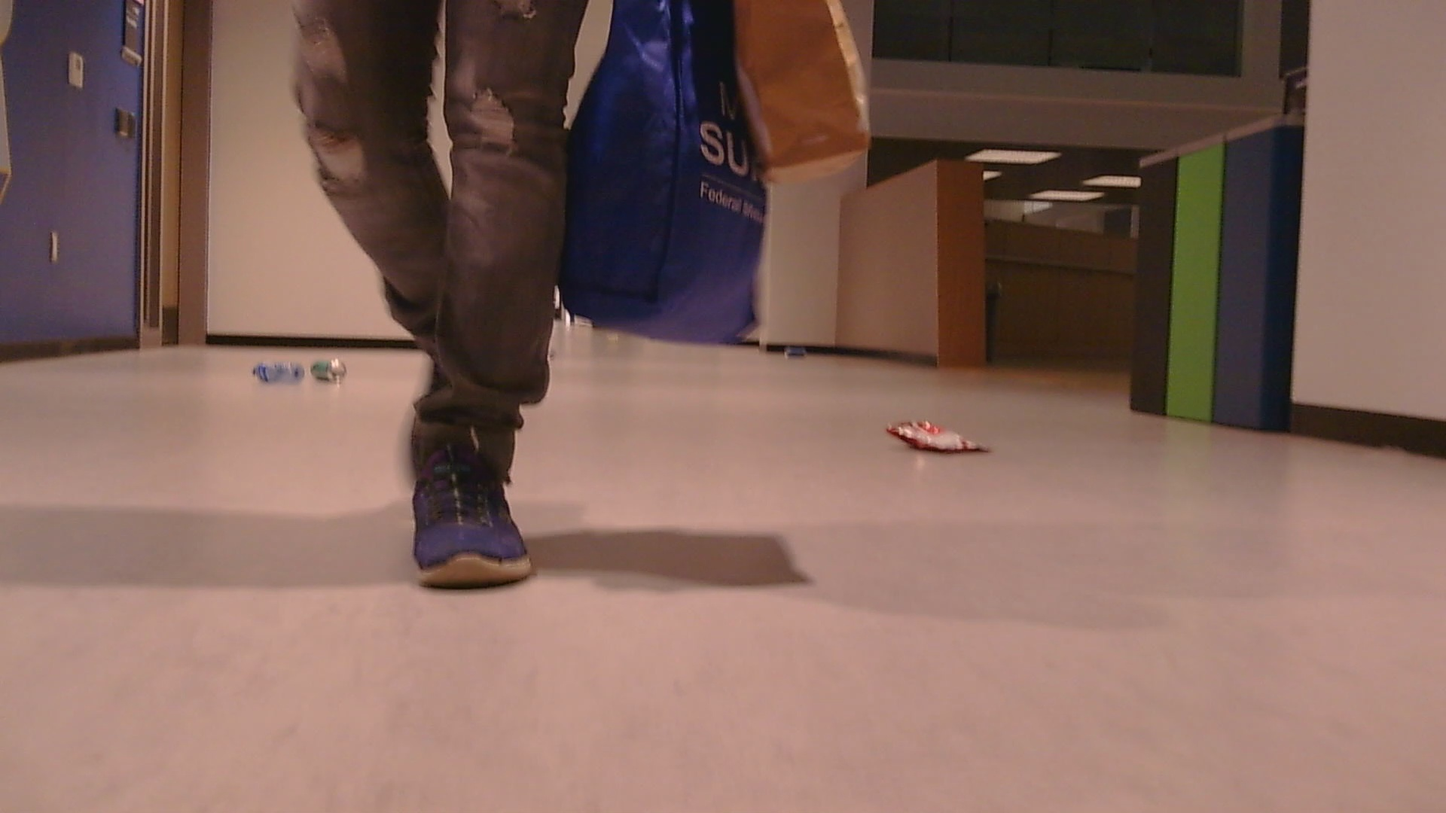carton: (886, 411, 998, 470), (249, 352, 301, 388), (312, 352, 356, 392)
